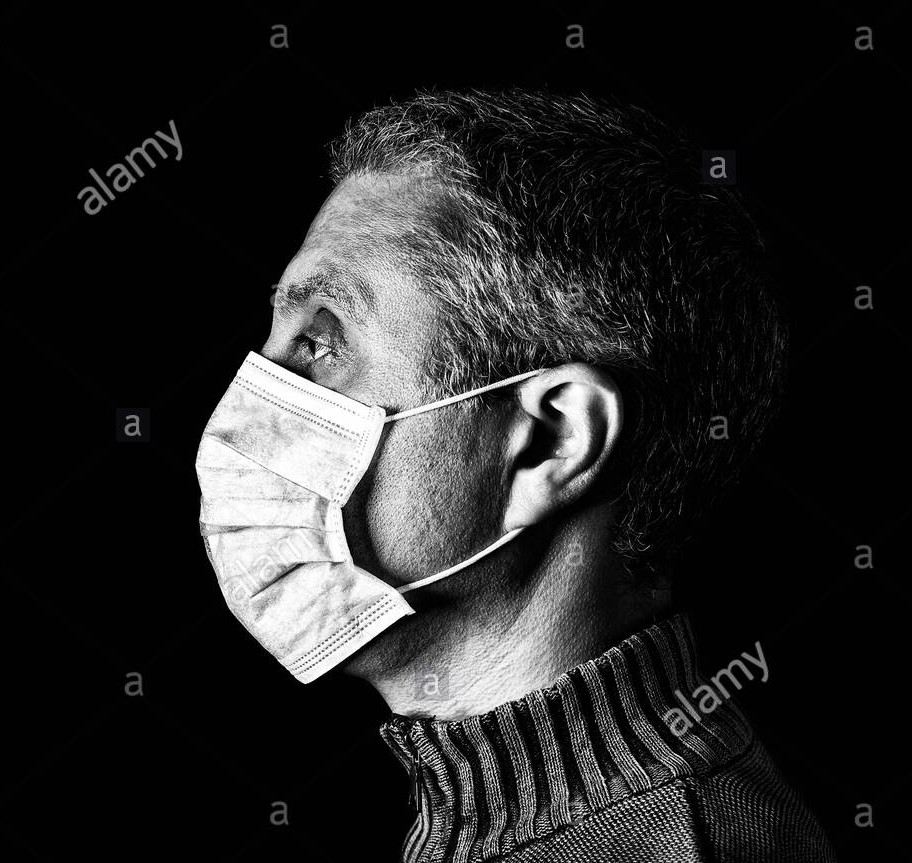with_mask: (197, 119, 710, 714)
